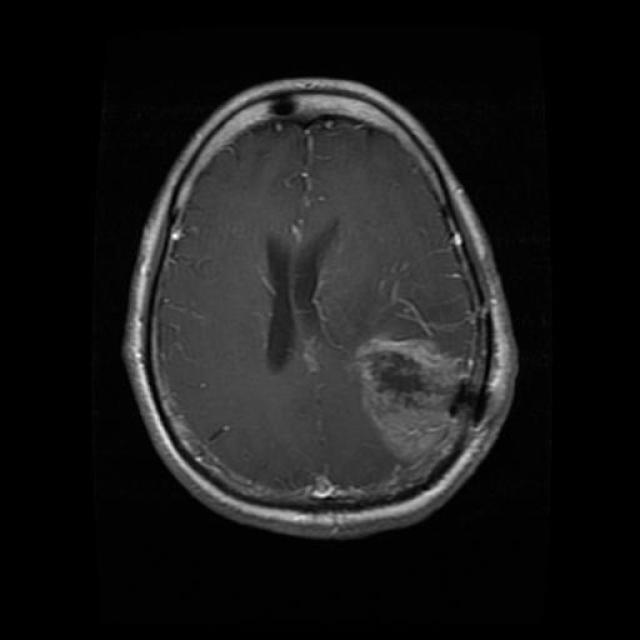Tumor-Cell: (357, 332, 459, 455)
